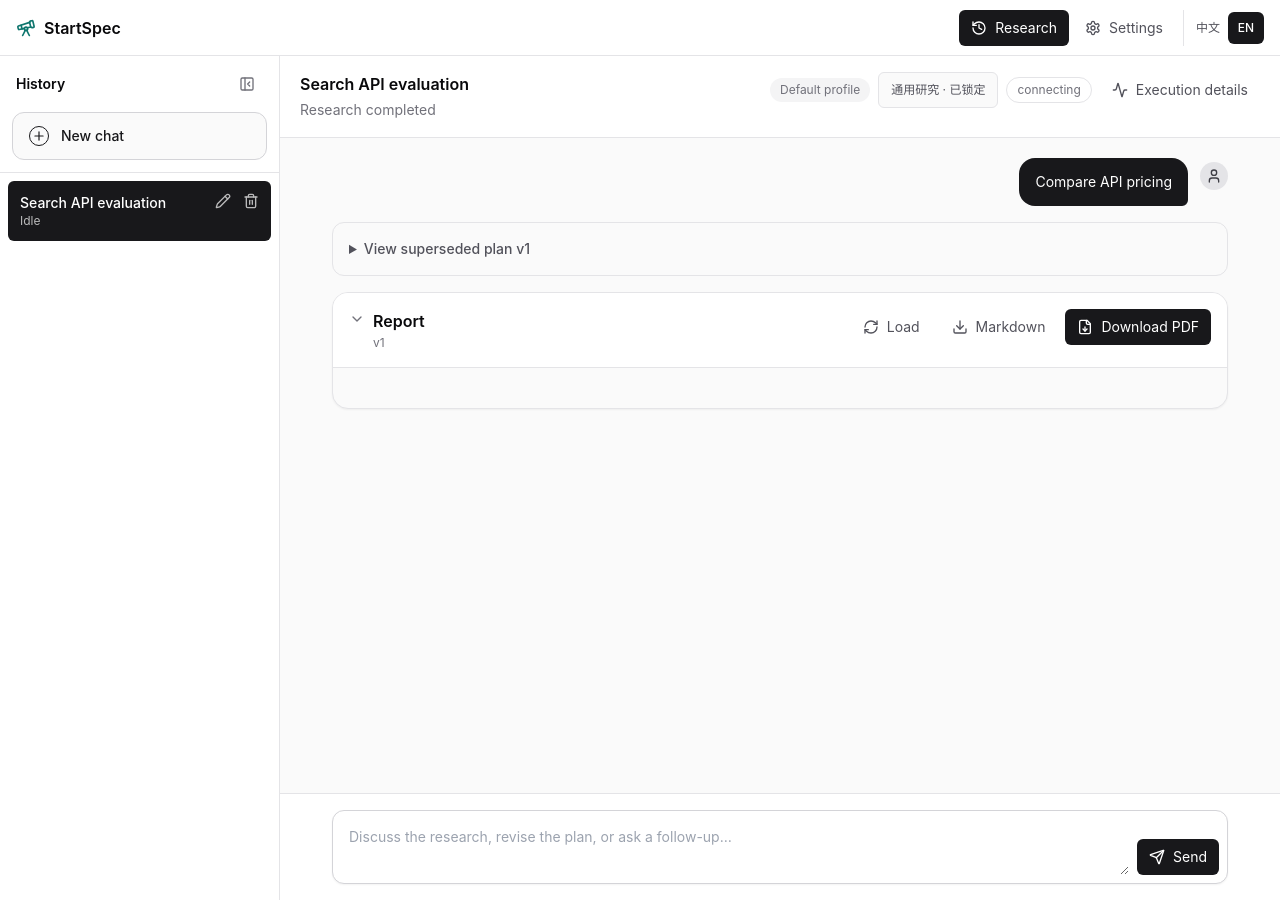
Test case: App Codex-style research flow › routes a completed follow-up and exposes correction
Check: the heading "Report" is shown, box left=373, top=309, right=425, bottom=333
Type "Rewrite the summary" into the text box named "Research request".
click(735, 847); type("Rewrite the summary")  # box left=341, top=819, right=1129, bottom=875
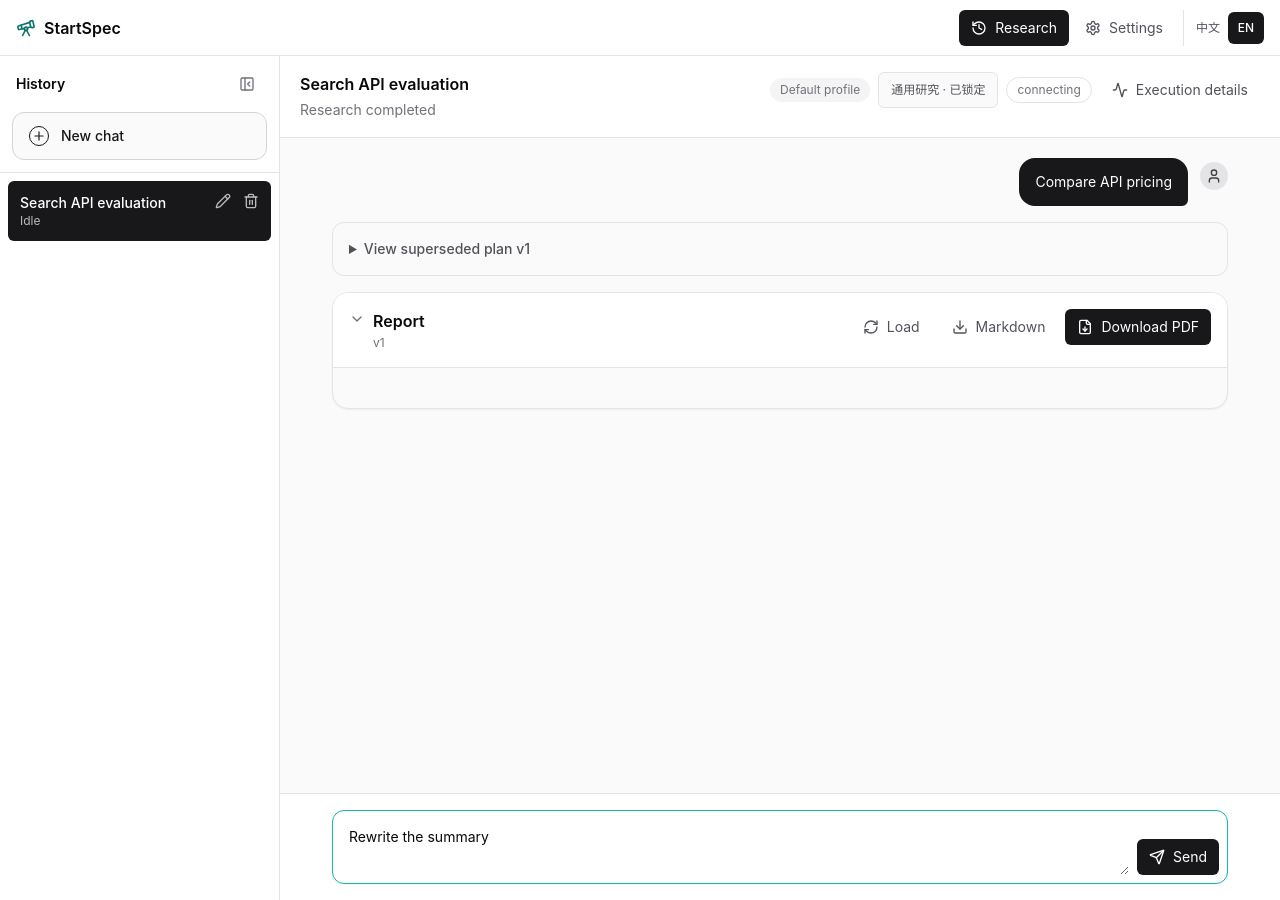
Click the button "Send".
click(1178, 857)  # box left=1137, top=839, right=1219, bottom=875
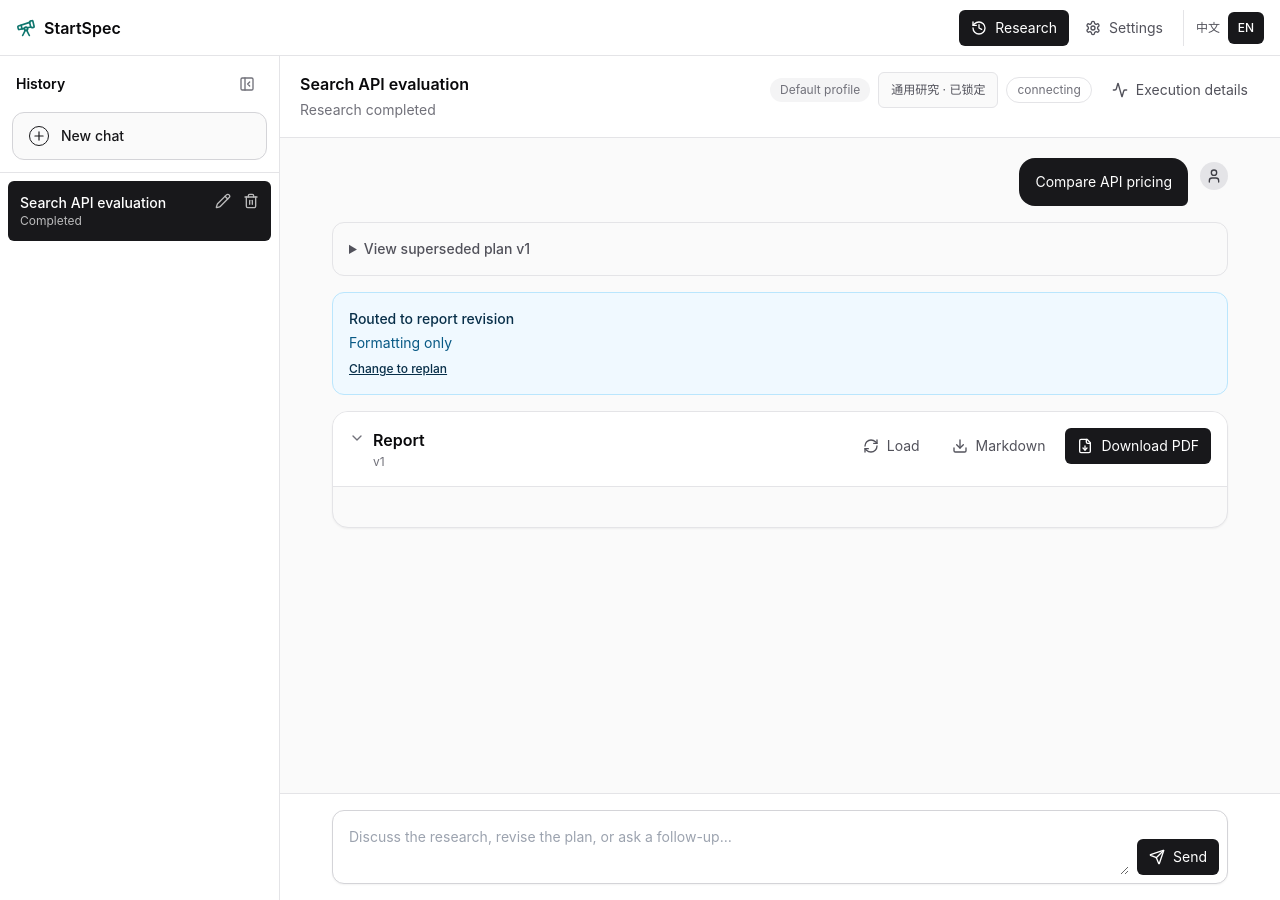
Check: the text "Routed to report revision" is shown, box left=349, top=310, right=514, bottom=327
Check: the button "Change to replan" is shown, box left=349, top=361, right=447, bottom=377
